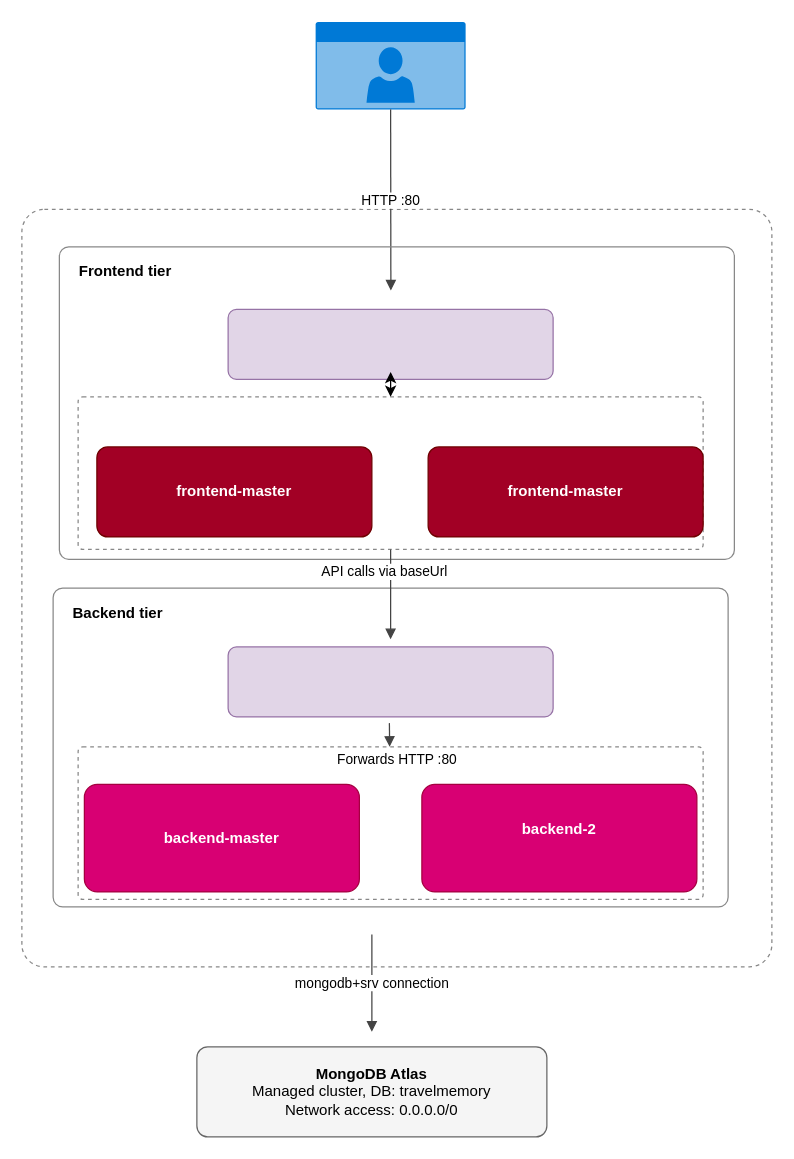
Image size: 794x1159. Some labels were removed from this diagram. The shapes that lost their labels are listed below. From the top down, each one's centre as x and y in pixels, then its label:
At point (390, 65): "User's Browser".
At point (390, 343): "Frontend ALB Listener 80 to frontend-tg".
At point (390, 681): "Backend ALB Listener 80 to backend-tg".
